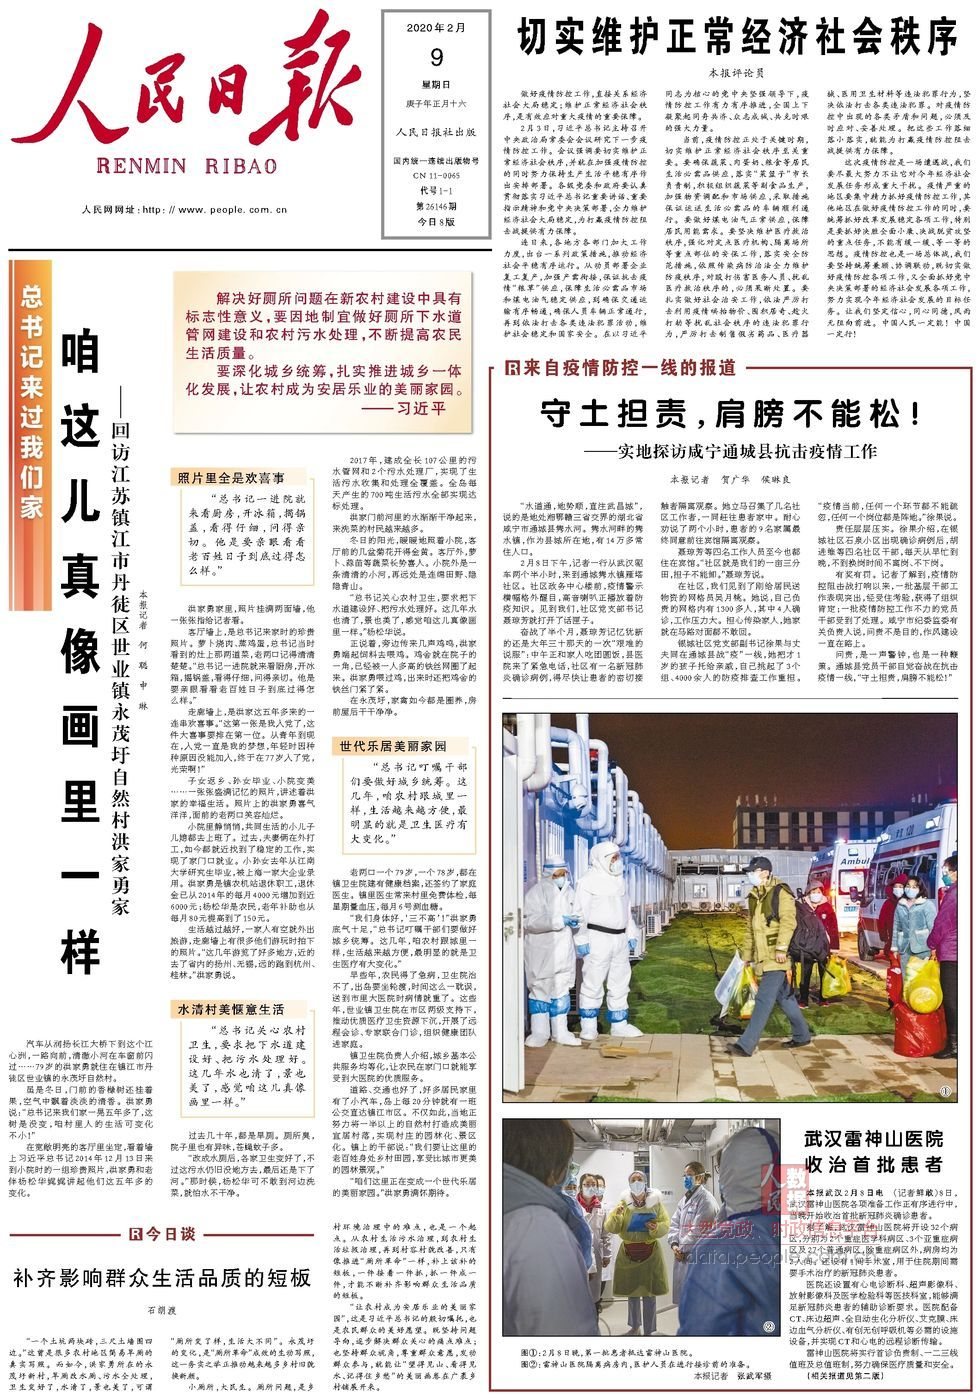pic: (499, 709, 965, 1107), (497, 1114, 786, 1341)
